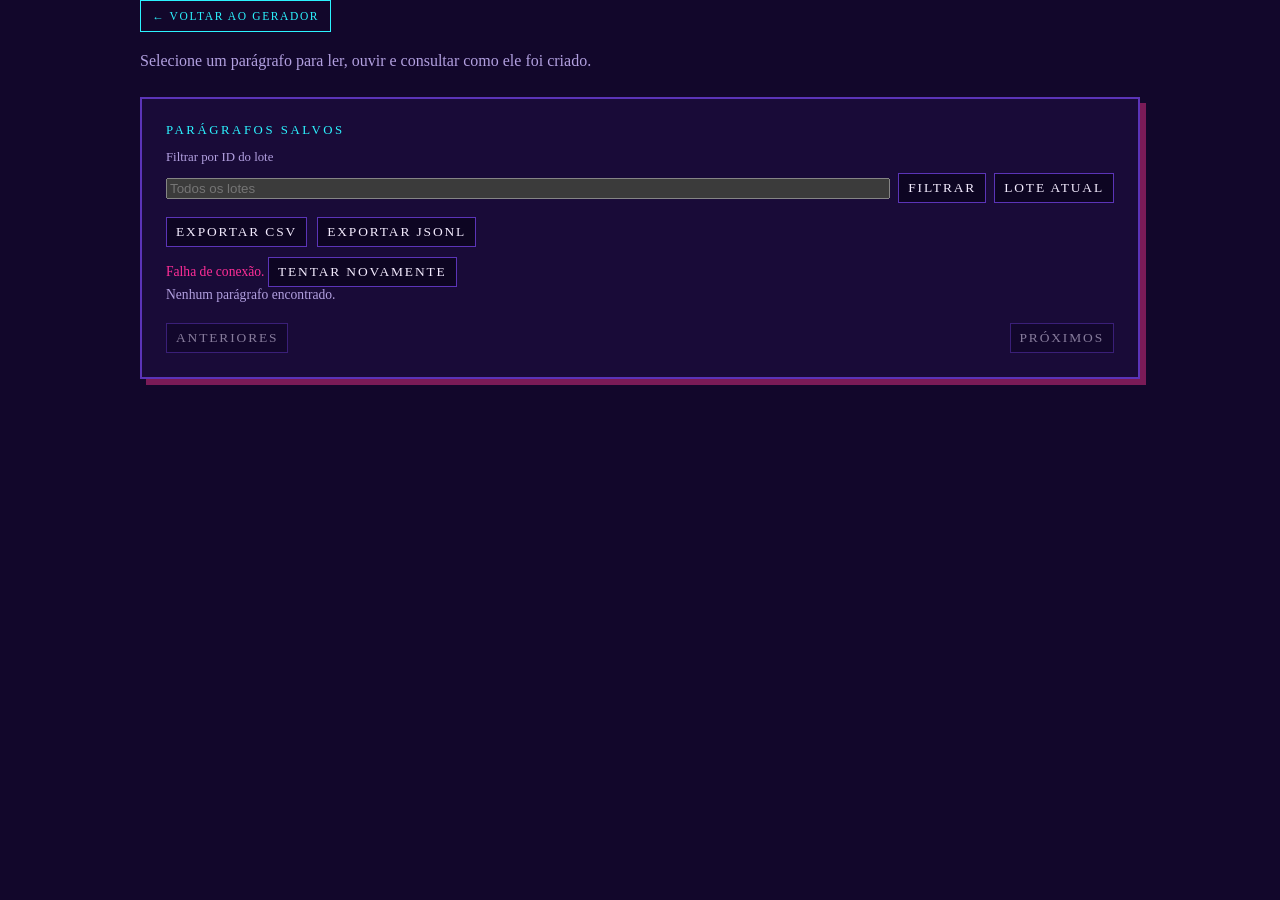
Test: shows a loading failure and lets the user retry
Expected: the message shows "Falha de conexão.", [166,264,264,279]
Click the button "Tentar novamente" at [362, 272], box [268,257,457,287]
(page scrolled)
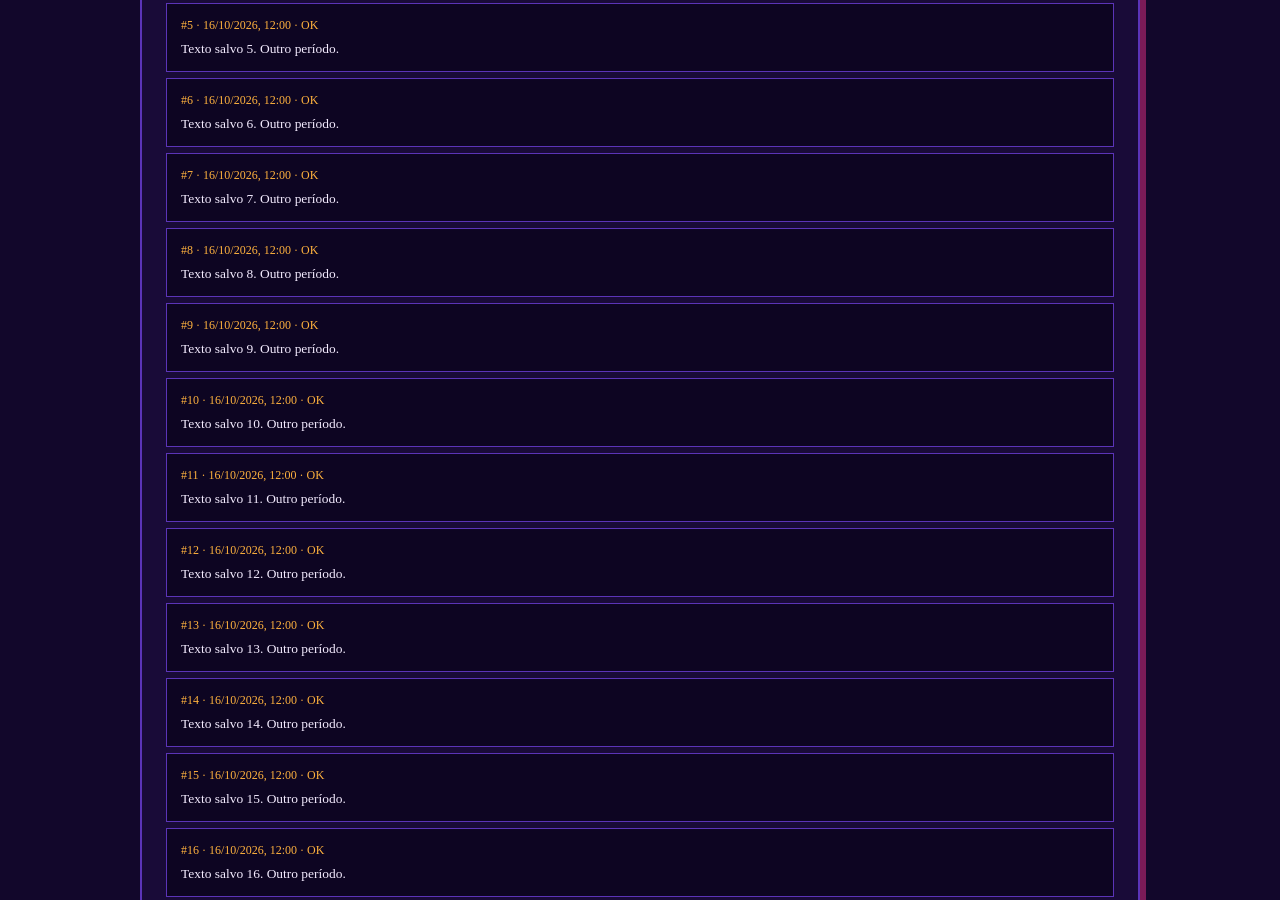
Expected: the message "Falha de conexão. Tentar novamente" is gone
